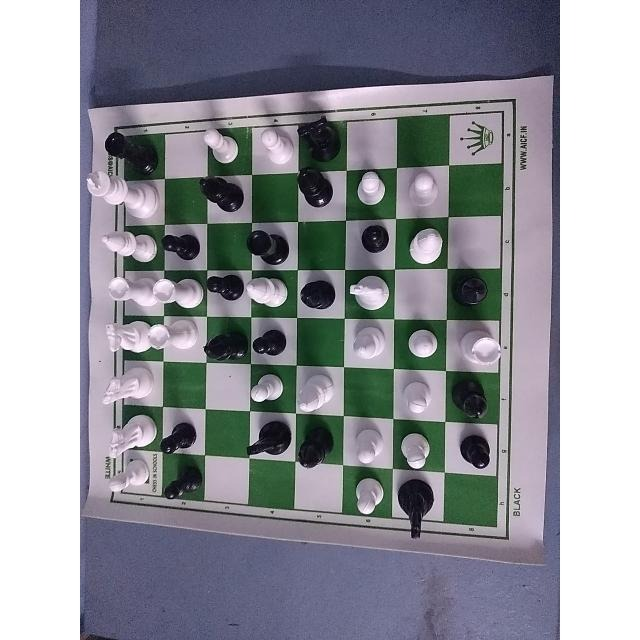black-bishop: (450, 268, 497, 314), (201, 168, 245, 214), (296, 158, 335, 206), (299, 275, 338, 315), (299, 422, 328, 475), (453, 376, 487, 420)
black-knight: (396, 472, 436, 542), (243, 416, 294, 464), (302, 112, 348, 154), (204, 318, 243, 366)
black-pawn: (160, 407, 208, 458), (452, 428, 494, 485), (158, 456, 204, 504), (160, 215, 204, 265), (204, 268, 238, 307), (248, 330, 292, 358), (360, 223, 392, 257)
black-rook: (104, 124, 154, 168), (248, 222, 295, 262)
white-bishop: (299, 361, 338, 420), (106, 221, 156, 265), (243, 272, 287, 316), (350, 322, 389, 370), (414, 226, 445, 266)
white-king: (80, 166, 157, 216)
white-knight: (102, 314, 144, 361), (347, 274, 395, 314), (104, 417, 156, 451), (104, 371, 156, 399)
white-pawn: (348, 169, 395, 213), (255, 122, 294, 170), (106, 454, 150, 494), (354, 420, 390, 468), (407, 321, 441, 371), (204, 124, 245, 164), (395, 375, 435, 416), (399, 420, 433, 468), (250, 367, 289, 407), (349, 478, 384, 519), (406, 171, 446, 205)
white-rook: (454, 319, 504, 366), (153, 308, 193, 358), (107, 275, 154, 309), (157, 270, 199, 307)
